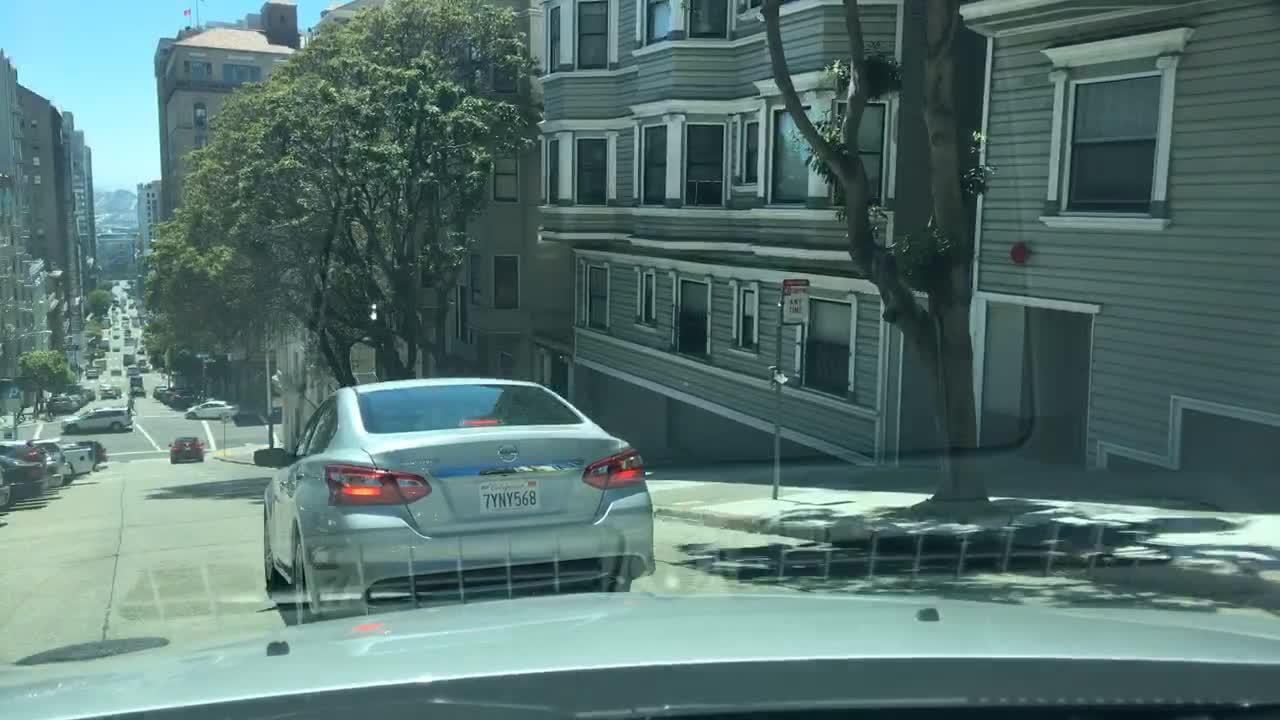Nissan: (489, 437, 530, 470)
